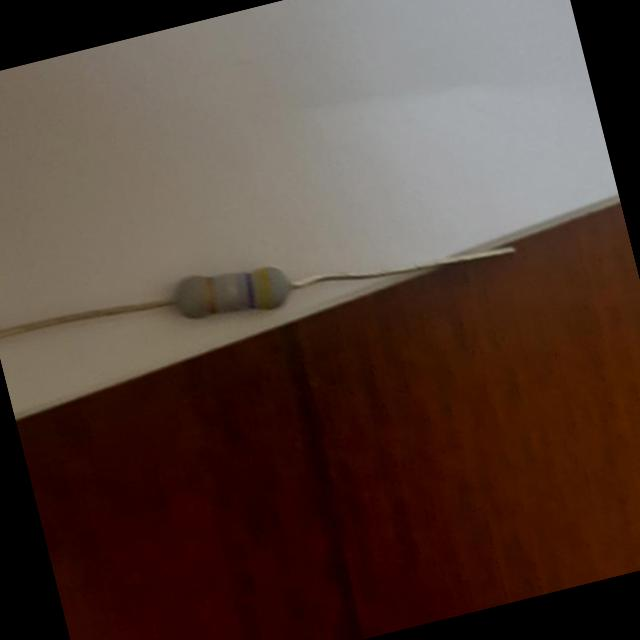Resistor: (172, 266, 293, 318)
gold: (206, 276, 217, 314)
purple: (240, 269, 261, 313)
silver: (228, 272, 242, 310)
yellow: (259, 269, 273, 310)
